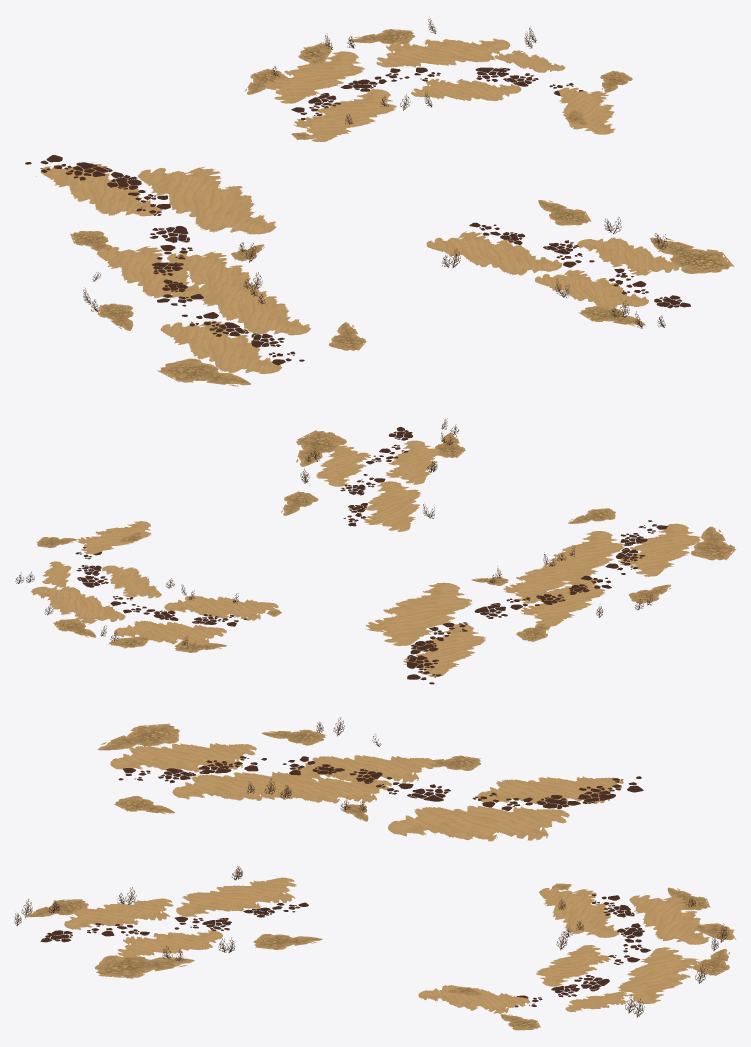
The model's file is mesh_zuhe_3.FBX.
3 views of the same model, one above another, from view 1: azimuth 30°, elevation 25°; view 2: azimuth 150°, elevation 25°; view 3: azimuth 270°, elevation 25° (orthographic). The views are drawn at different scales.
Visible parts, largest first — view 1: mesh_zuhe_3; view 2: mesh_zuhe_3; view 3: mesh_zuhe_3.
Part boxes in pixels (<box>): mesh_zuhe_3: <box>25,18,734,386</box>; mesh_zuhe_3: <box>15,418,735,684</box>; mesh_zuhe_3: <box>14,717,736,1030</box>.
Size of the model in its own units: 8364 by 249 by 8256.
1 material, 1 textured.
